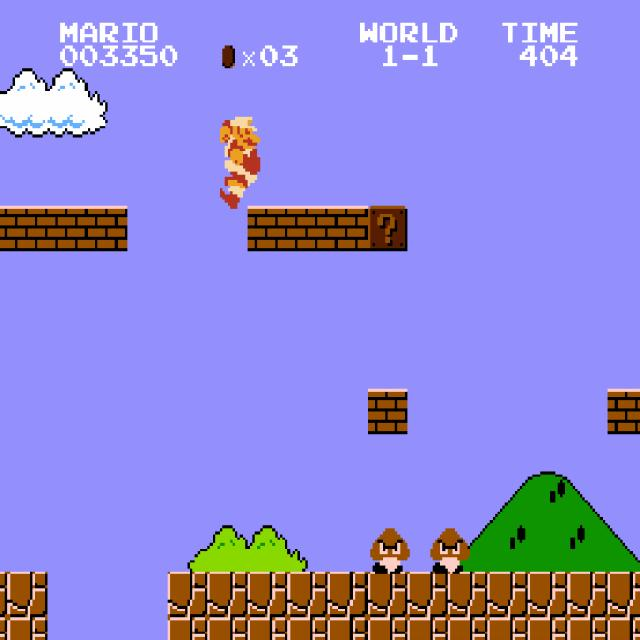brick_block: (7, 206, 48, 251), (47, 206, 88, 251), (87, 206, 128, 251), (247, 206, 288, 251), (287, 206, 328, 251), (327, 206, 368, 251), (367, 389, 408, 434), (607, 388, 640, 434), (0, 206, 7, 251)
fire_mario: (218, 114, 260, 208)
goomba: (427, 526, 470, 574), (368, 526, 410, 574)
mystery_block: (367, 206, 408, 251)
undestructible_block: (7, 572, 48, 617), (167, 572, 208, 617), (207, 572, 248, 617), (247, 572, 288, 617), (287, 572, 328, 617), (327, 572, 368, 617), (367, 572, 408, 617), (407, 572, 448, 617), (447, 572, 488, 617), (487, 572, 528, 617), (527, 572, 568, 617), (567, 572, 608, 617), (607, 571, 640, 617), (7, 617, 48, 640), (167, 617, 208, 640), (207, 617, 248, 640), (247, 617, 288, 640), (287, 617, 328, 640), (327, 617, 368, 640), (367, 617, 408, 640), (407, 617, 448, 640), (447, 617, 488, 640), (487, 617, 528, 640), (527, 617, 568, 640), (567, 617, 608, 640), (607, 617, 640, 639), (0, 572, 7, 617), (0, 617, 7, 640)
